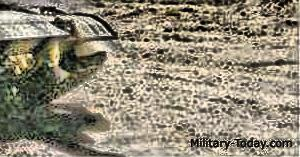tanks: (1, 4, 116, 104)
